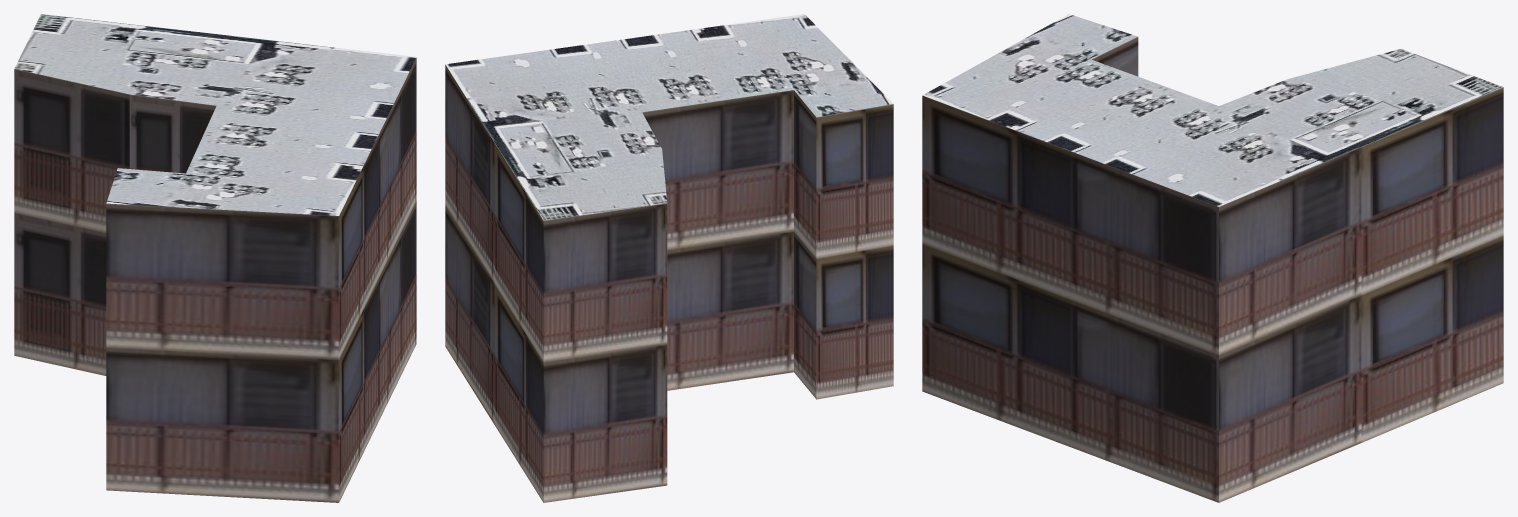
The model's file is ResTex__3066.fbx.
3 views of the same model, side by side, from view 1: azimuth 30°, elevation 25°; view 2: azimuth 150°, elevation 25°; view 3: azimuth 270°, elevation 25° (orthographic). The views are drawn at different scales.
Visible parts, largest first — view 1: CityEngineMaterial_6_m, CityEngineMaterial_m; view 2: CityEngineMaterial_6_m, CityEngineMaterial_m; view 3: CityEngineMaterial_6_m, CityEngineMaterial_m.
Part boxes in pixels (x1,y1,x2,y2): CityEngineMaterial_6_m: [14, 57, 416, 502]; CityEngineMaterial_m: [14, 14, 416, 215]; CityEngineMaterial_6_m: [445, 65, 893, 502]; CityEngineMaterial_m: [445, 14, 892, 220]; CityEngineMaterial_6_m: [922, 37, 1503, 502]; CityEngineMaterial_m: [922, 14, 1503, 206].
Size of the model in its own units: 8.38 by 6 by 10.68.
Materials: 2 (2 with a texture image).
